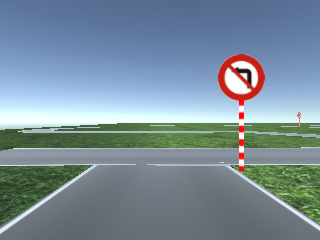0: (1, 196, 320, 239)
NoLeft: (217, 53, 267, 102)
